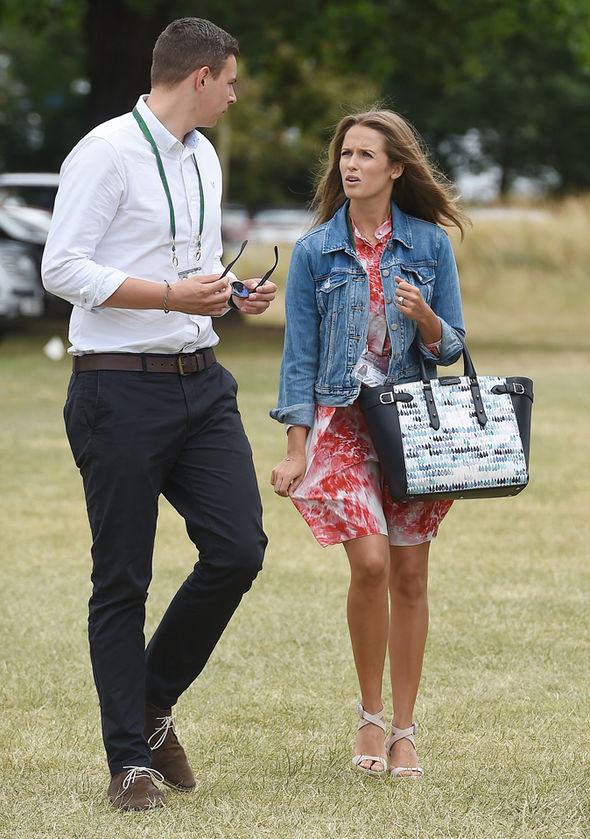Person: (38, 17, 275, 811), (272, 109, 467, 779)
